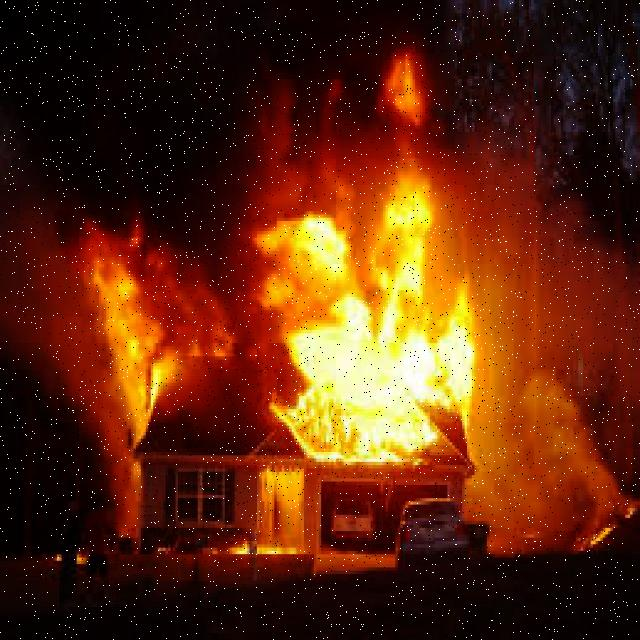fire: (280, 212, 473, 467), (88, 267, 182, 416), (239, 537, 296, 564)
smoke: (24, 18, 302, 207)
